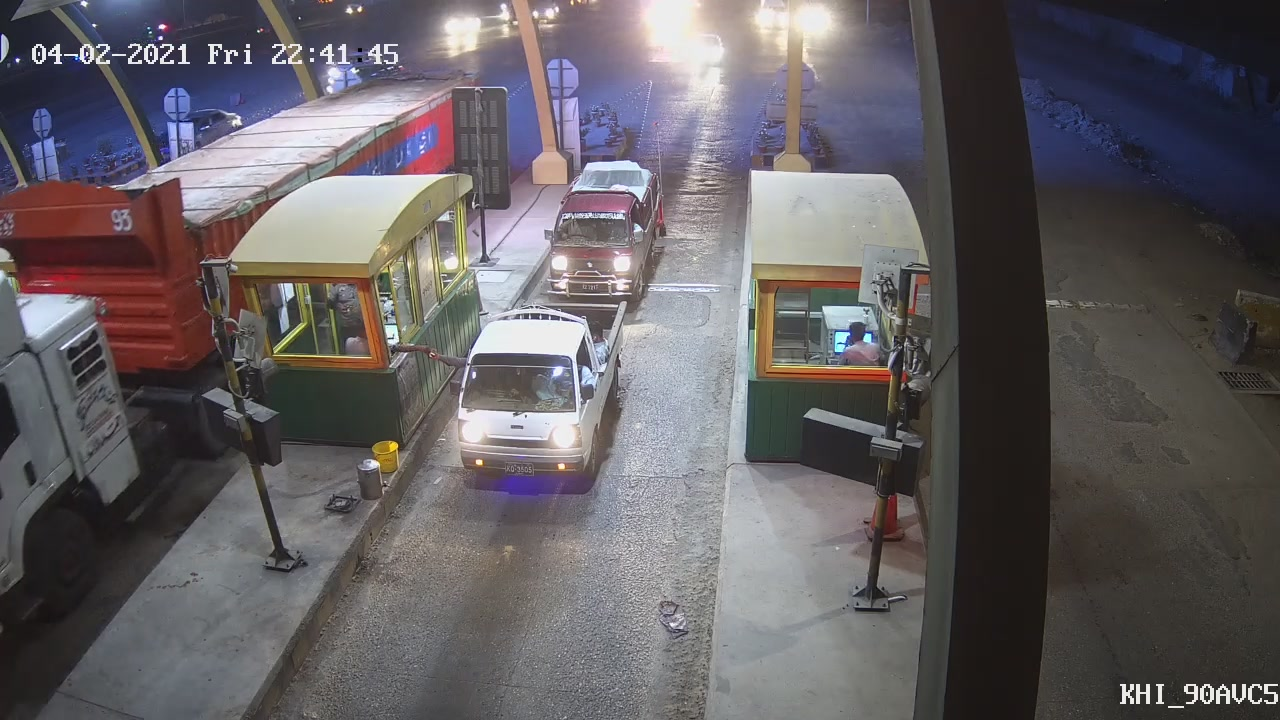F1: (449, 301, 634, 500), (538, 156, 674, 308)
